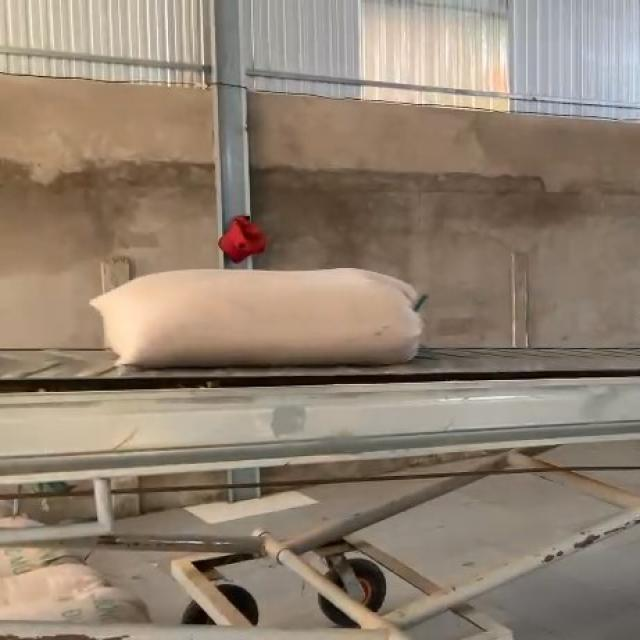gunny_bag: (90, 268, 423, 367)
